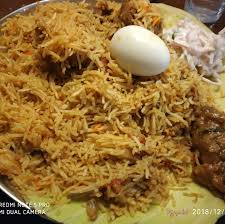briyani: (3, 4, 225, 209)
